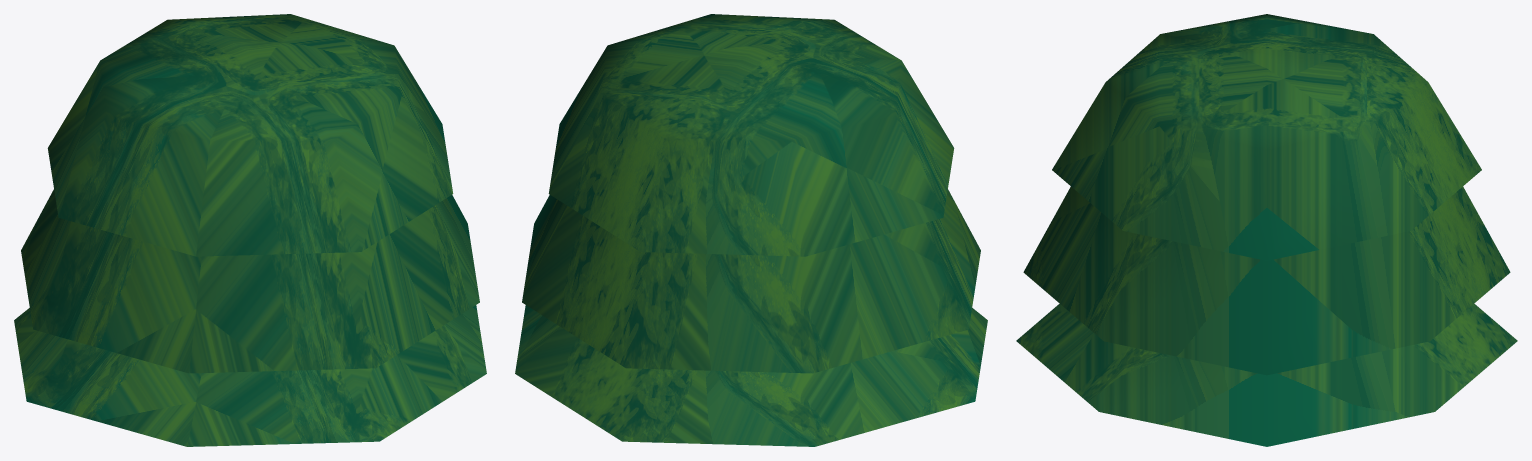
Rendered from Shrub_sphere.fbx.
The picture shows the model from 3 angles, left to right: view 1: azimuth 30°, elevation 25°; view 2: azimuth 150°, elevation 25°; view 3: azimuth 270°, elevation 25°; orthographic projection. The views are drawn at different scales.
Parts seen in each view (by area): view 1: Shrub_sphere, Shrub_sphere1, Shrub_sphere2; view 2: Shrub_sphere, Shrub_sphere1, Shrub_sphere2; view 3: Shrub_sphere, Shrub_sphere1, Shrub_sphere2.
Boxes of the visible parts, x1,y1,x2,y2 form: Shrub_sphere: (47, 14, 453, 256); Shrub_sphere1: (21, 189, 479, 373); Shrub_sphere2: (14, 305, 486, 446); Shrub_sphere: (548, 14, 954, 256); Shrub_sphere1: (522, 189, 980, 373); Shrub_sphere2: (515, 305, 987, 446); Shrub_sphere: (1052, 14, 1481, 260); Shrub_sphere1: (1023, 186, 1510, 375); Shrub_sphere2: (1016, 303, 1517, 446).
Size of the model in its own units: 227 by 143 by 227.
Materials: 1 (1 with a texture image).
